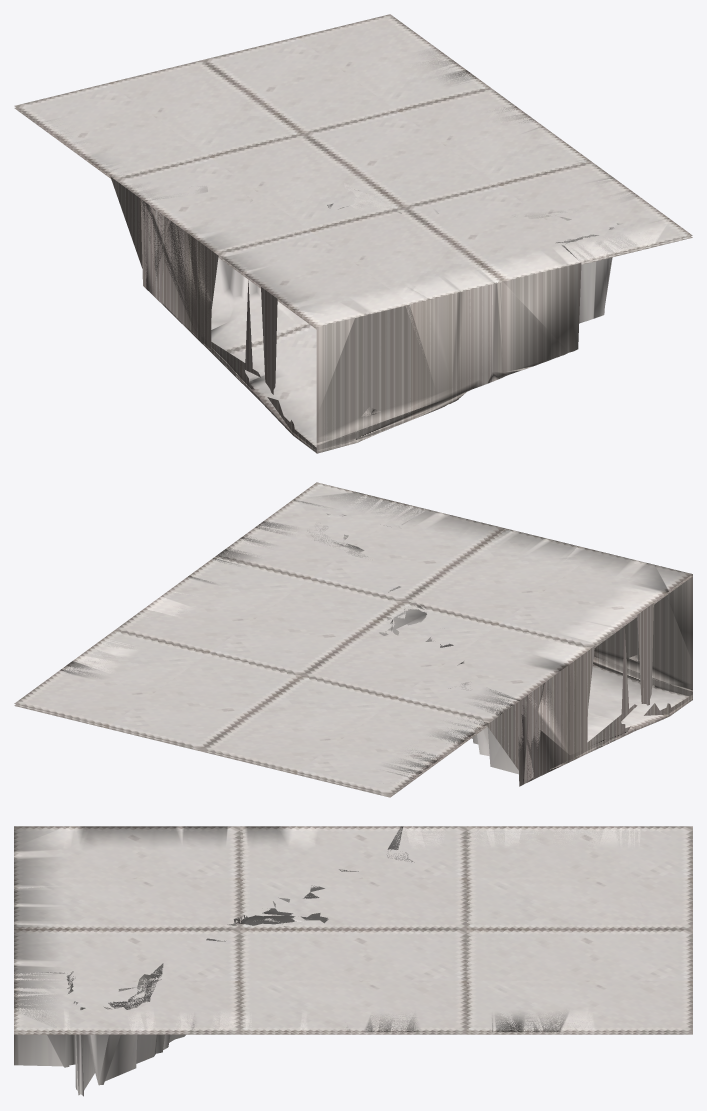
File: FloorTileWhite.locked.glb
3 views of the same model, one above another, from view 1: azimuth 30°, elevation 25°; view 2: azimuth 150°, elevation 25°; view 3: azimuth 270°, elevation 25° (orthographic). The views are drawn at different scales.
Parts seen in each view (by area): view 1: tripo_part_15; view 2: tripo_part_15; view 3: tripo_part_15.
Boxes of the visible parts, <box> form: tripo_part_15: <box>14,14,692,453</box>; tripo_part_15: <box>14,482,692,797</box>; tripo_part_15: <box>14,826,692,1096</box>.
Size of the model in its own units: 0.1061 by 0.034 by 0.1478.
1 material, 1 textured.
